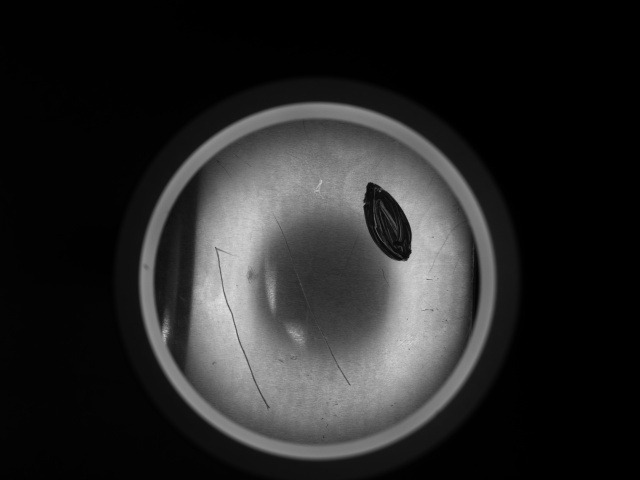ca_shang: (268, 205, 350, 385), (212, 245, 272, 417)
zang_wu: (358, 179, 416, 265)
